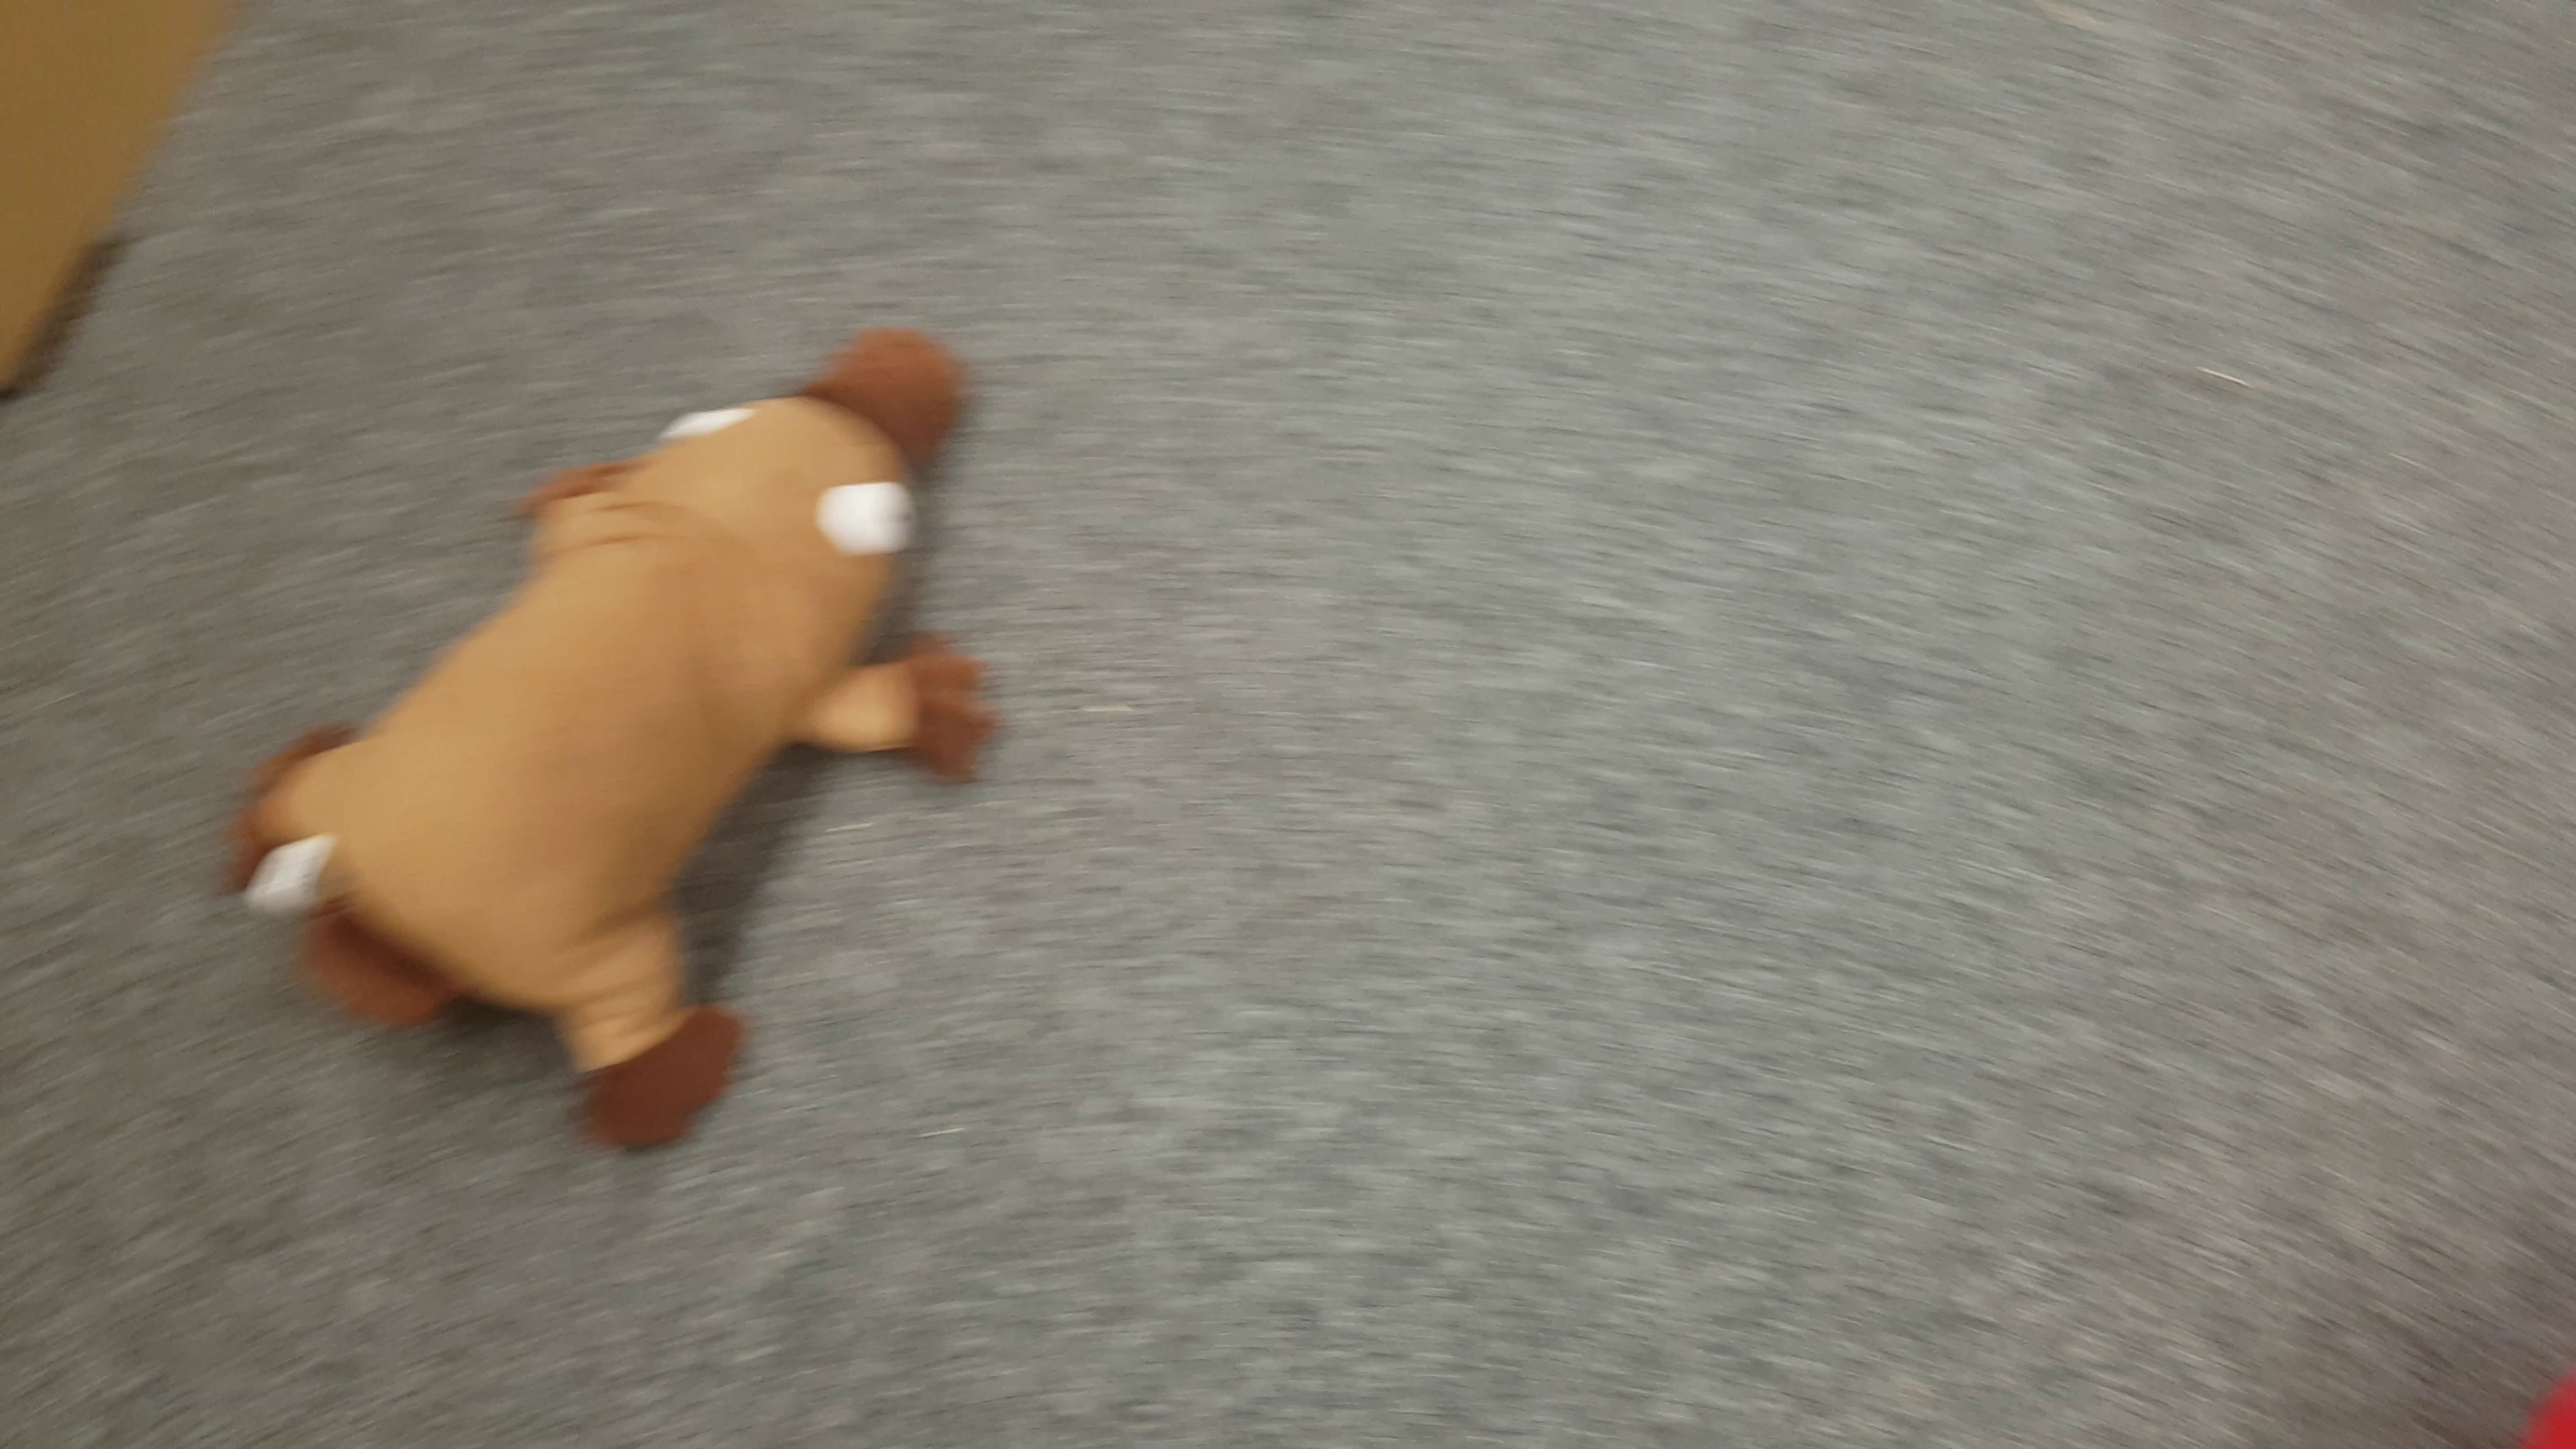grasp: (225, 326, 1000, 1168)
